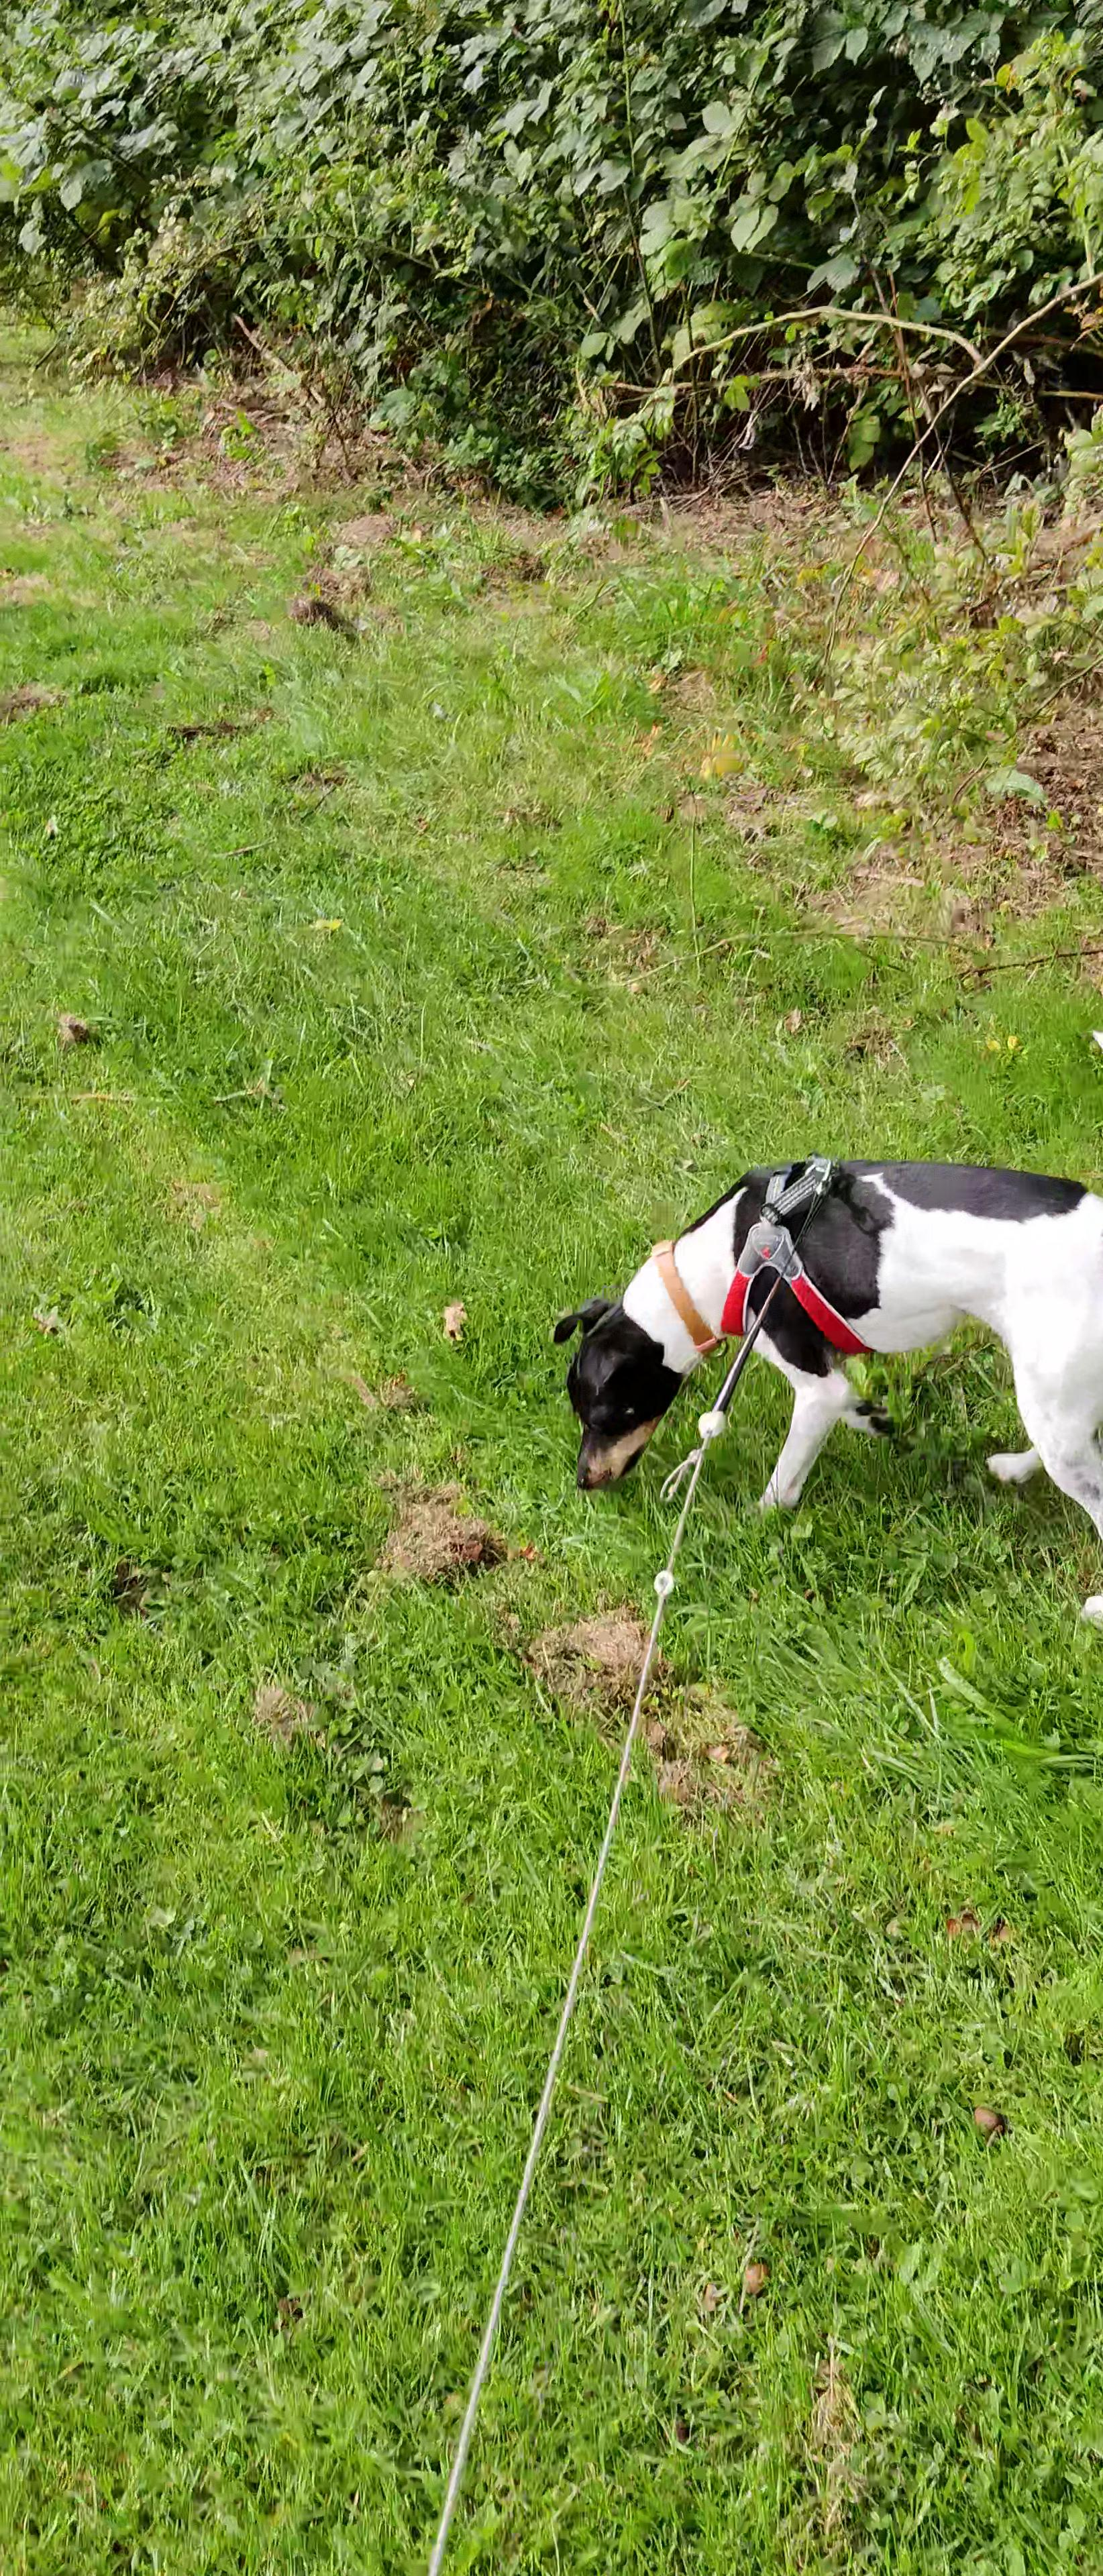Dog: (538, 1023, 1103, 1633), (492, 1331, 534, 1332)
